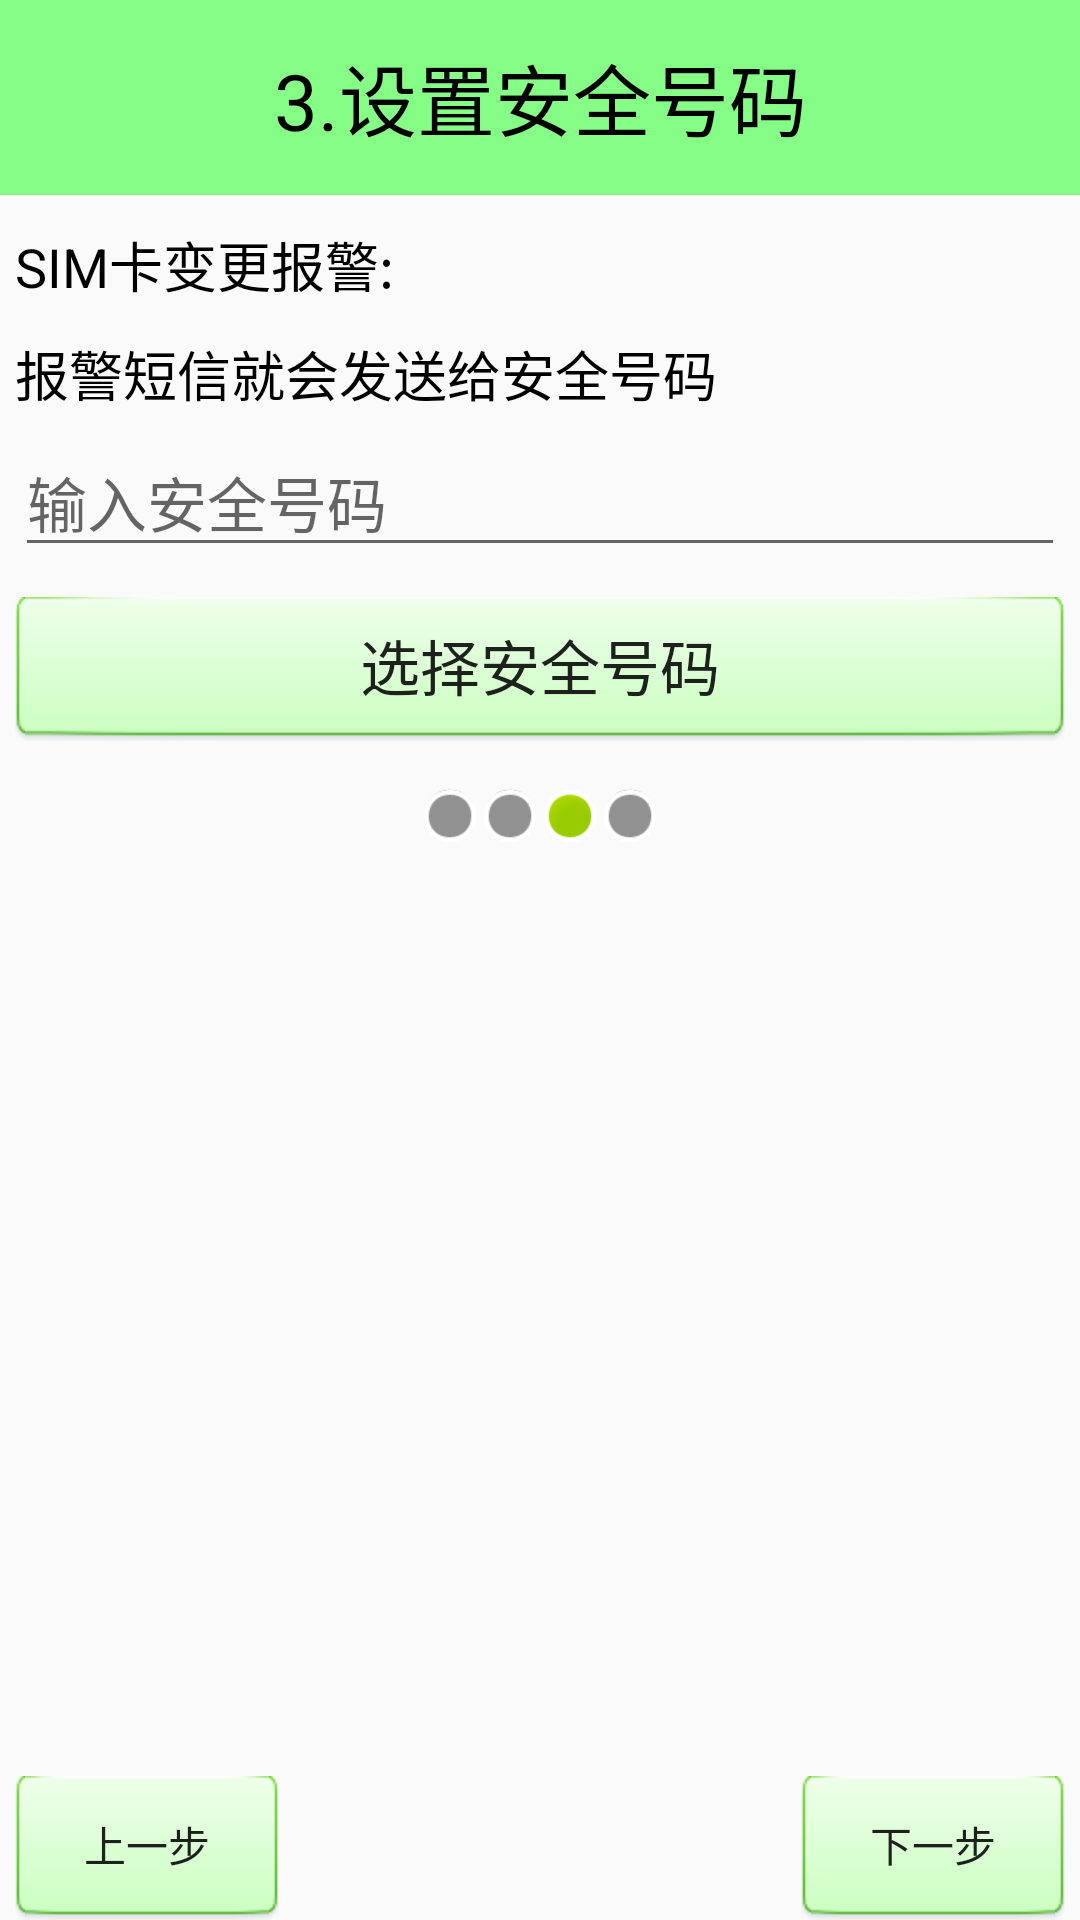

Named icons in this screenshot (1080w x 1920h) and their centers, [x,y]:
presence invisible: [450,814], [510,814], [630,814]
presence online: [570,816]
